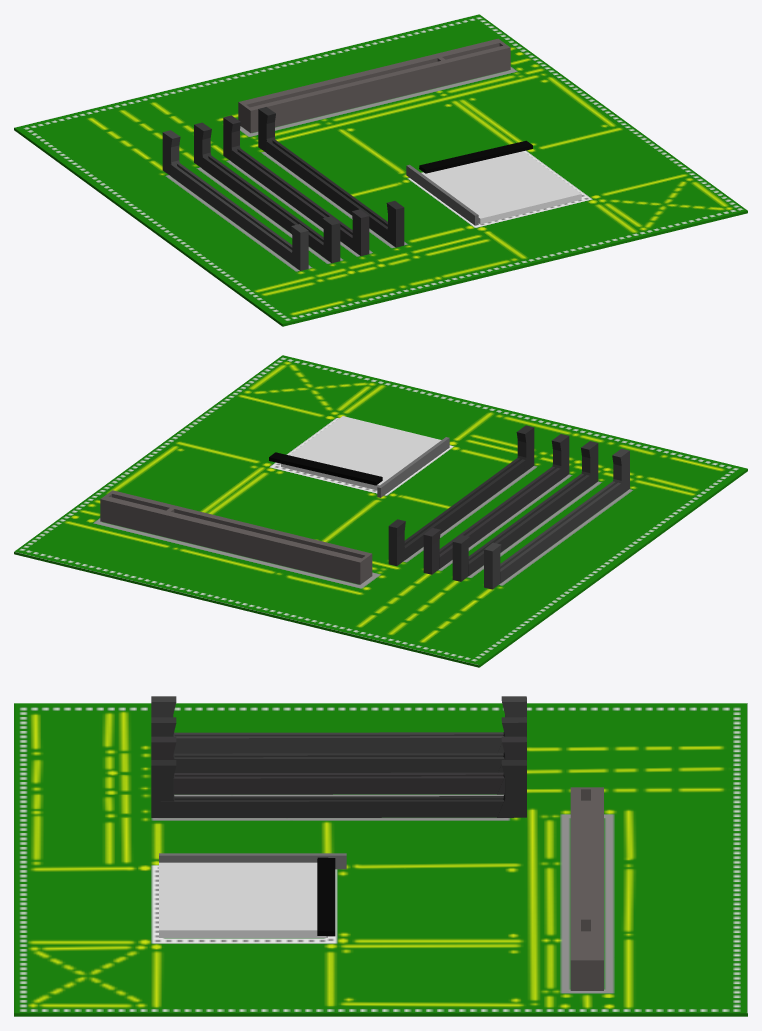
Rendered from PlacaMadre1.fbx.
The picture shows the model from 3 angles, top to bottom: view 1: azimuth 30°, elevation 25°; view 2: azimuth 150°, elevation 25°; view 3: azimuth 270°, elevation 25°; orthographic projection. The views are drawn at different scales.
Visible parts, largest first — view 1: Cube.013; view 2: Cube.013; view 3: Cube.013.
Boxes of the visible parts, x1,y1,x2,y2 form: Cube.013: (14,14,747,326); Cube.013: (14,355,747,667); Cube.013: (14,696,747,1016).
Size of the model in its own units: 100 by 8.35 by 100.
9 materials, 1 textured.
